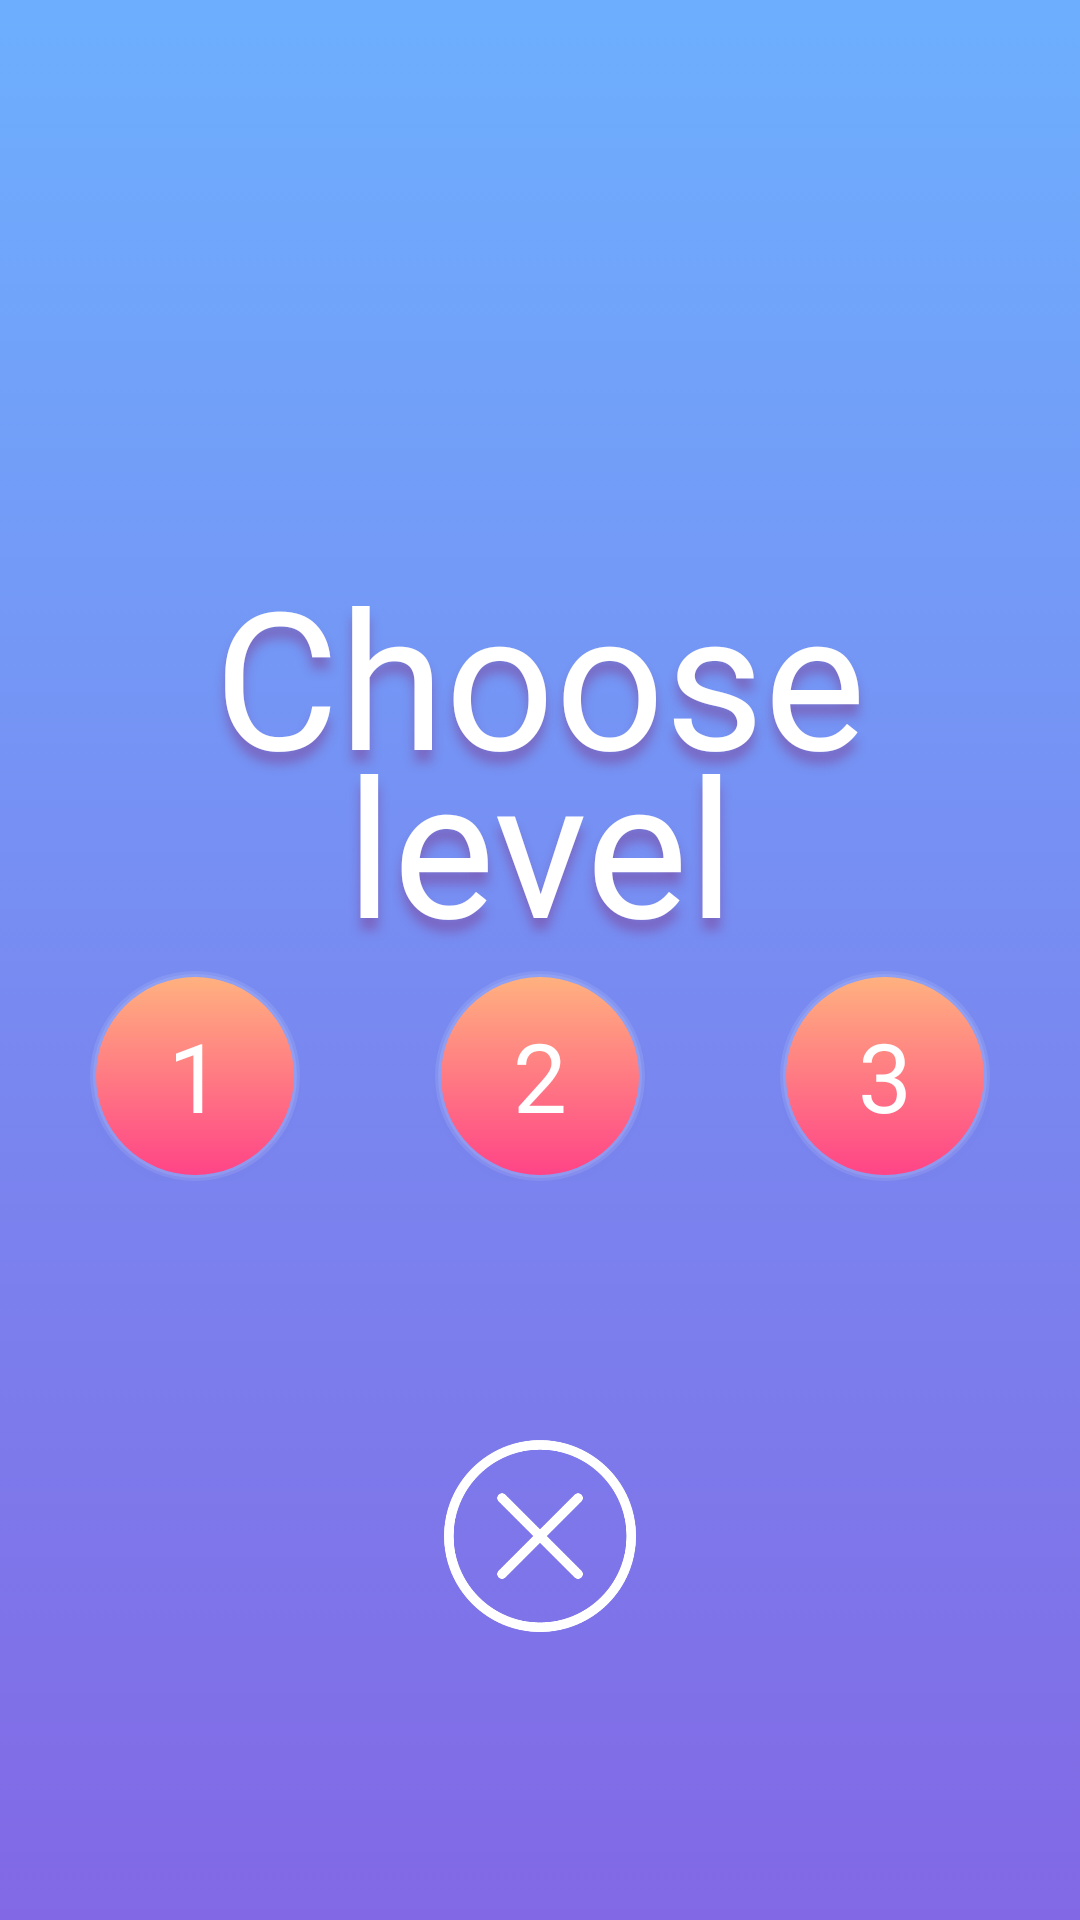

Point at icon controls on the screen. Image size 1080×1920, points as [x,y].
close: [540,1536]
